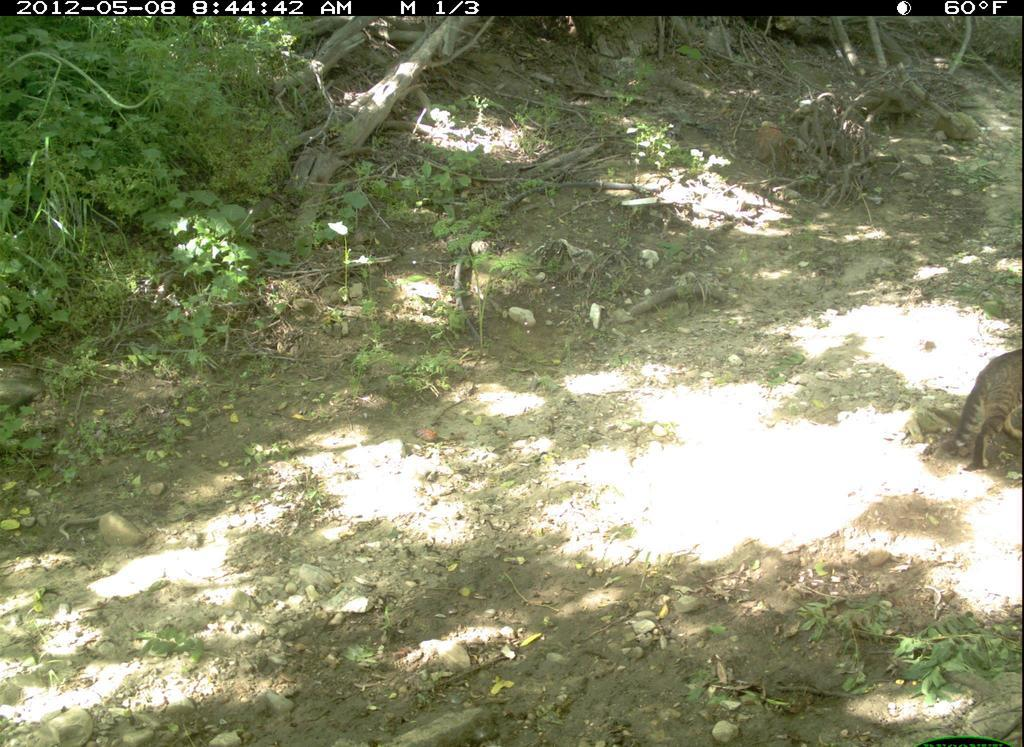cat: (939, 333, 1022, 479)
